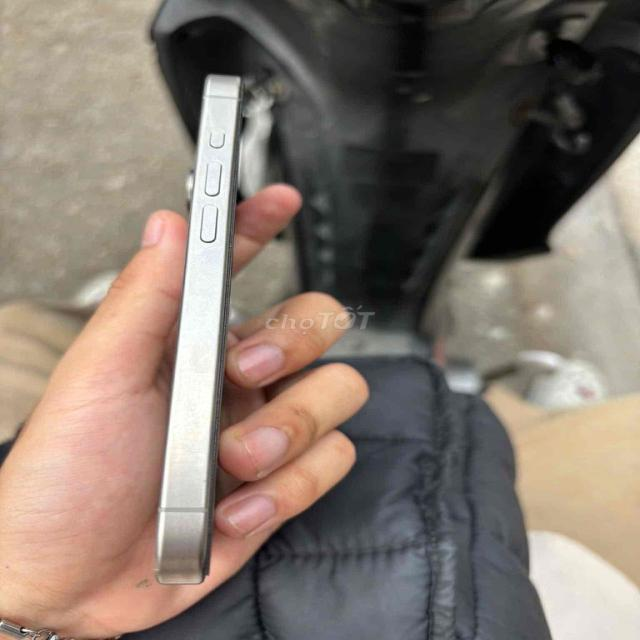gen_15: (97, 56, 264, 593)
